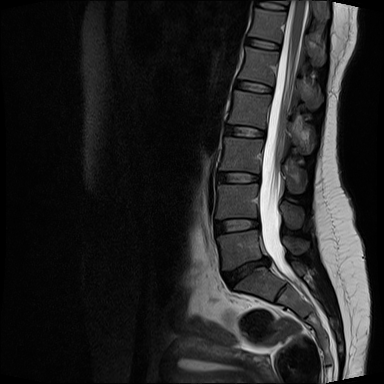Lumbar Disc Bulge (LDB): (216, 254, 280, 296)
Normal IVD: (212, 211, 265, 239), (213, 167, 266, 187), (219, 121, 269, 141), (228, 76, 276, 96), (242, 34, 284, 54)
Spinal Stenosis (SS): (260, 250, 276, 276)
